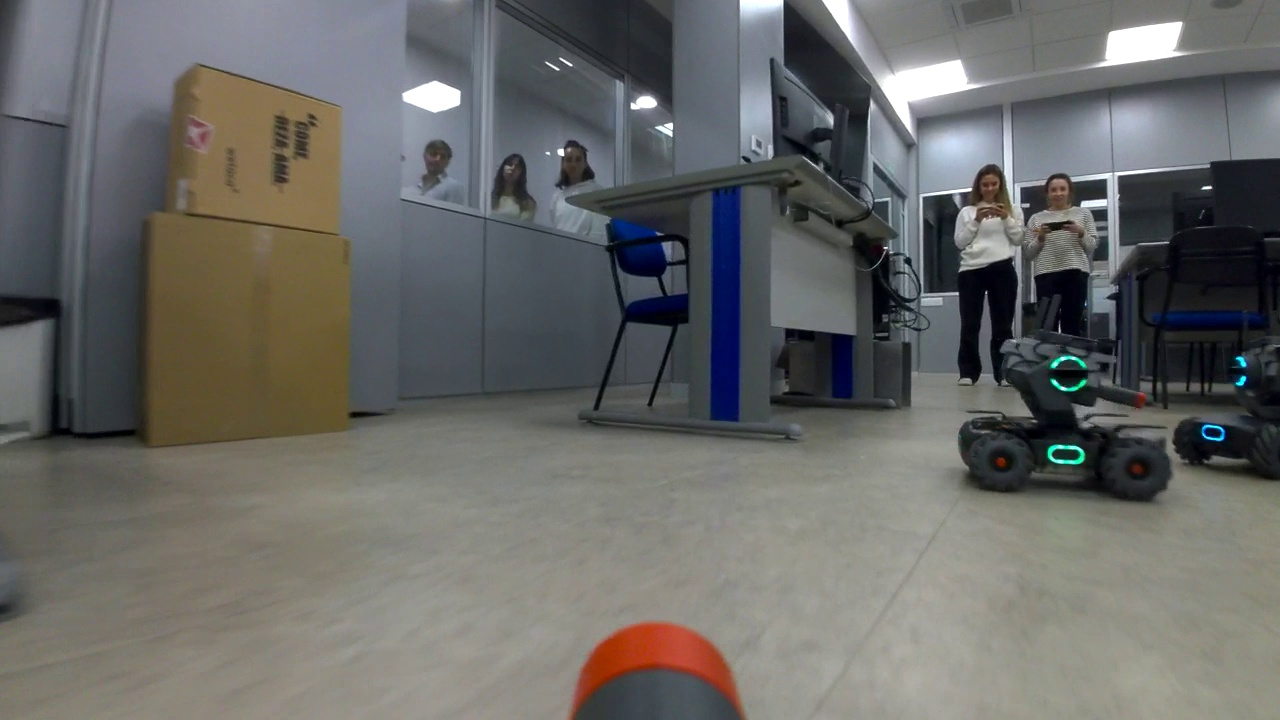robot: (957, 333, 1173, 506), (1177, 339, 1280, 474)
